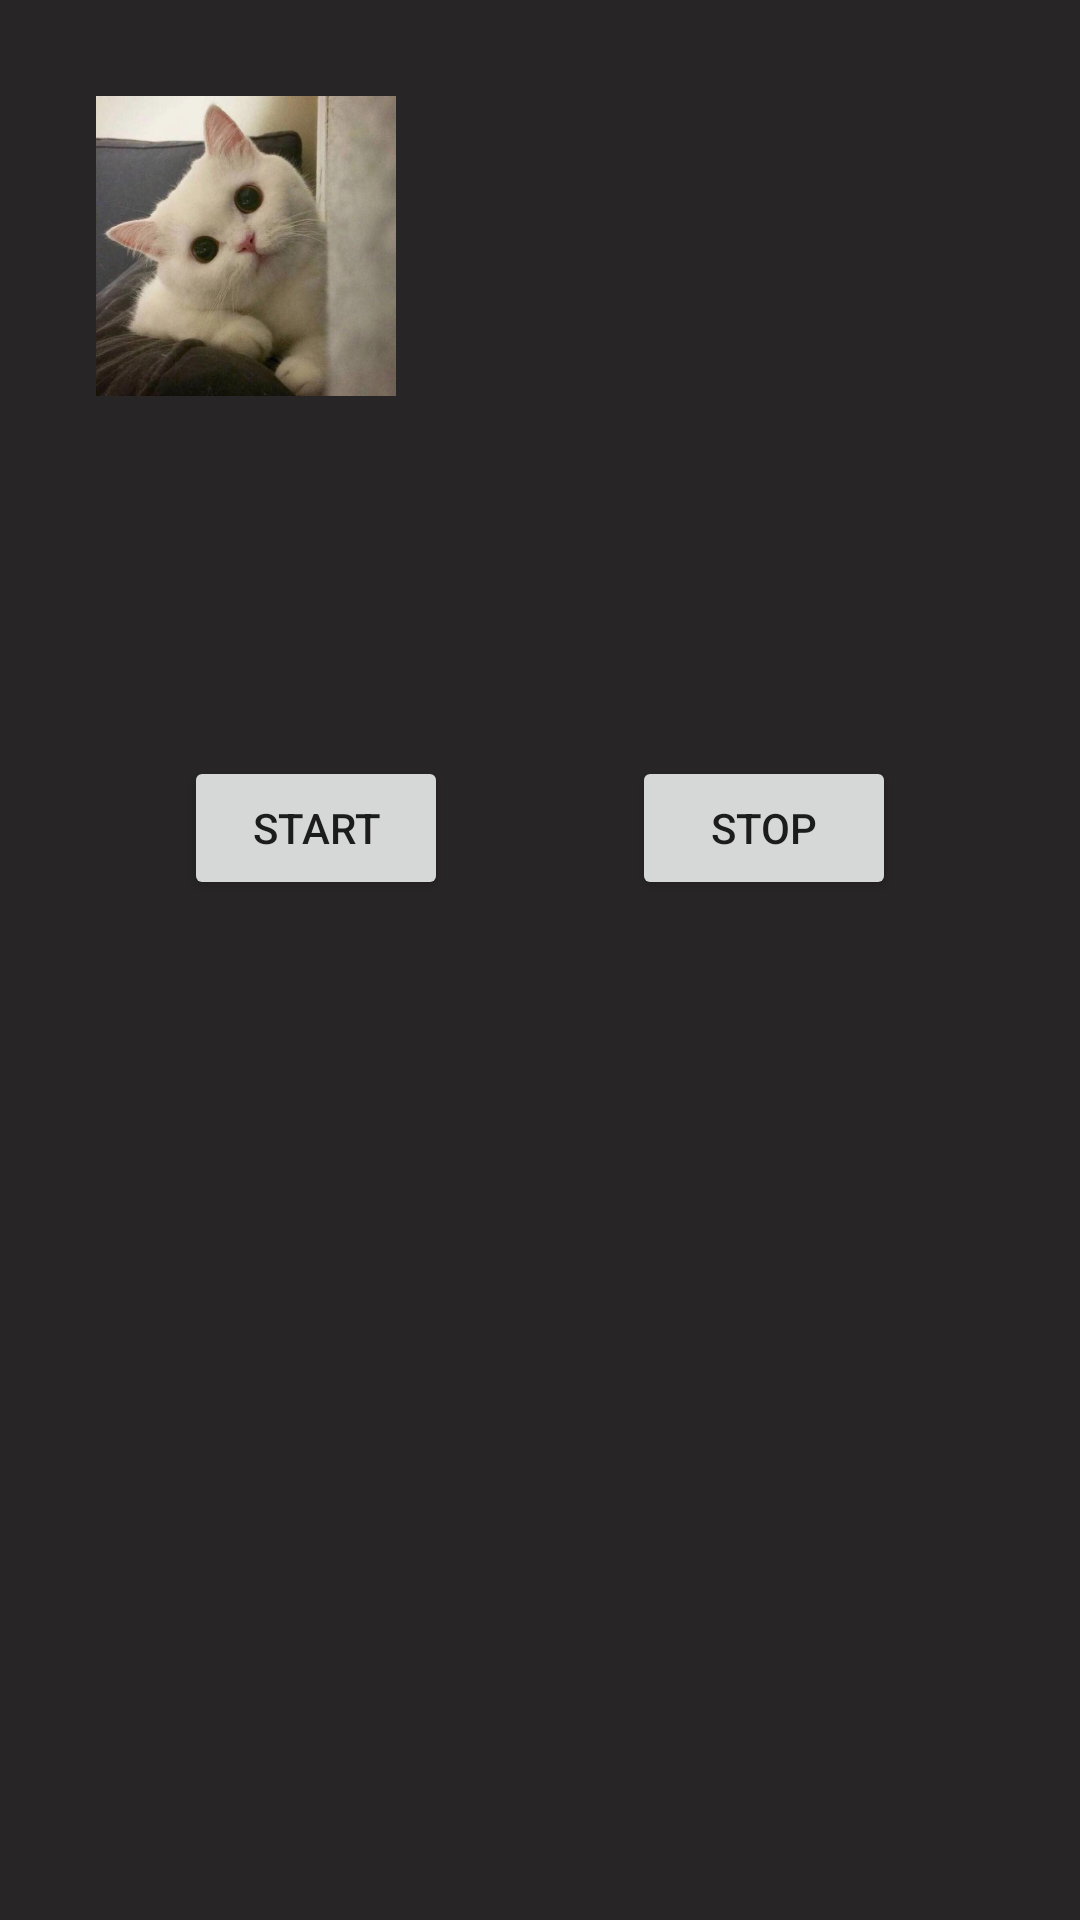

Icons on this 1080x1920 Android screen, each with the point to tap as point (x, y):
cat: point (246, 246)
